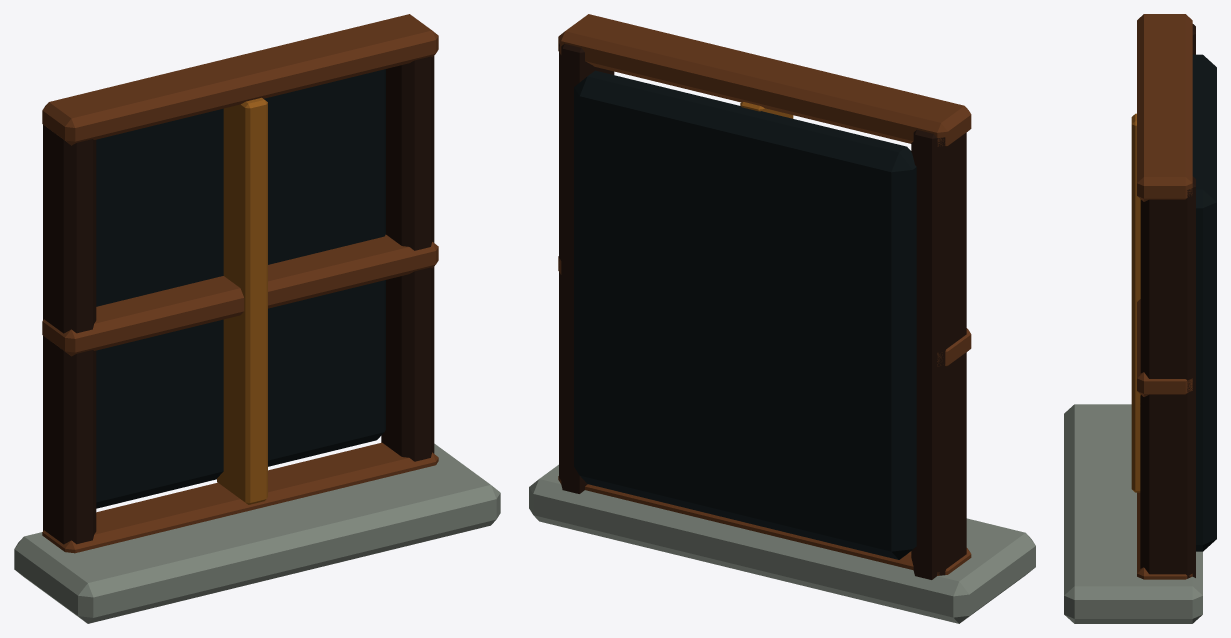
The model's file is Janela_trabalhada_LOD0.fbx.
3 views of the same model, side by side, from view 1: azimuth 30°, elevation 25°; view 2: azimuth 150°, elevation 25°; view 3: azimuth 270°, elevation 25° (orthographic). The views are drawn at different scales.
Visible parts, largest first — view 1: Janela_trabalhada_LOD0; view 2: Janela_trabalhada_LOD0; view 3: Janela_trabalhada_LOD0.
Boxes of the visible parts, left/top/right/bottom form: Janela_trabalhada_LOD0: left=14, top=14, right=500, bottom=623; Janela_trabalhada_LOD0: left=529, top=14, right=1035, bottom=623; Janela_trabalhada_LOD0: left=1064, top=14, right=1216, bottom=623.
Size of the model in its own units: 130 by 139 by 44.
1 material, 1 textured.
